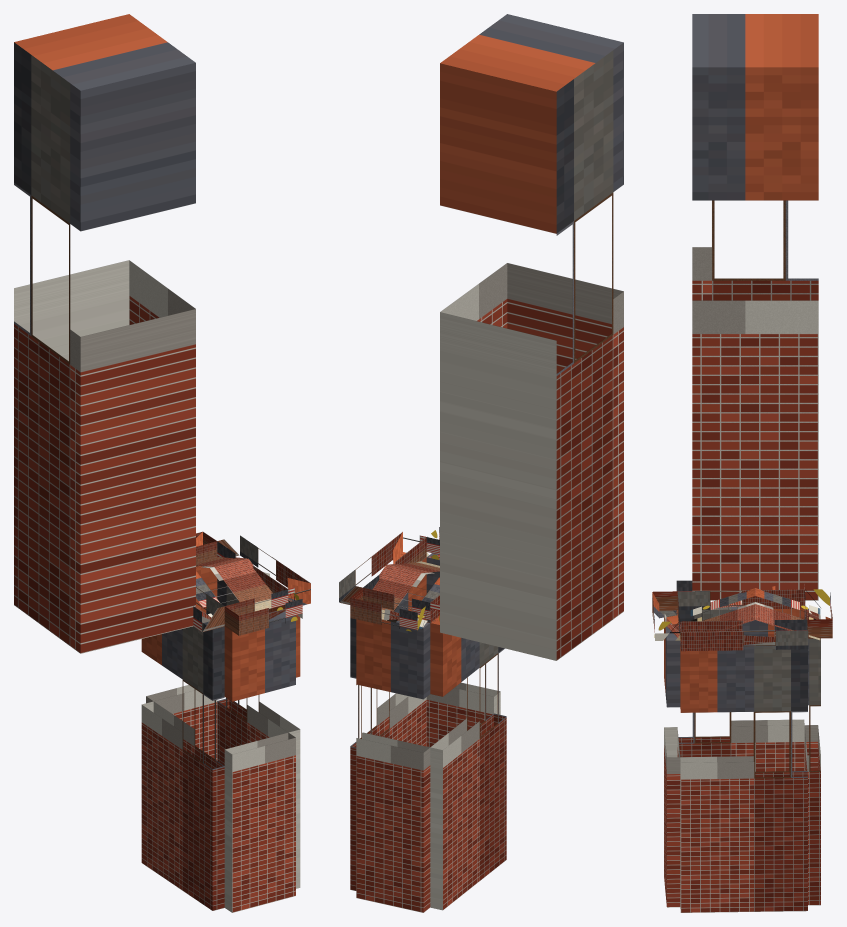
3 renders of one model, left to right at view 1: azimuth 30°, elevation 25°; view 2: azimuth 150°, elevation 25°; view 3: azimuth 270°, elevation 25°, orthographic. The views are drawn at different scales.
Visible parts, largest first — view 1: 1107168850__chimney_0_xb, 1107168850__wall_2_xb, 1107168850__wall_1_xb, 1107168850__wall_0_xb, 1107168850__wall_3_xb, 1107168850_roof_-1_xb, 1107168850__cornice_1, 1107168850__cornice_0, 1107168850__cornice_2; view 2: 1107168850__chimney_0_xb, 1107168850__wall_3_xb, 1107168850__wall_2_xb, 1107168850__wall_0_xb, 1107168850__wall_1_xb, 1107168850__cornice_3, 1107168850__cornice_0, 1107168850_roof_1_xb; view 3: 1107168850__chimney_0_xb, 1107168850__wall_0_xb, 1107168850__wall_2_xb, 1107168850__wall_1_xb, 1107168850__wall_3_xb, 1107168850__cornice_0, 1107168850__cornice_2, 1107168850_roof_-1_xb, 1107168850_roof_1_xb, 1107168850__cornice_1, 1107168850__cornice_3.
Boxes of the visible parts, left/top/right/bottom form: 1107168850__chimney_0_xb: left=14, top=14, right=195, bottom=653; 1107168850__wall_2_xb: left=141, top=607, right=224, bottom=910; 1107168850__wall_1_xb: left=224, top=611, right=295, bottom=912; 1107168850__wall_0_xb: left=217, top=579, right=300, bottom=888; 1107168850__wall_3_xb: left=146, top=566, right=217, bottom=760; 1107168850_roof_-1_xb: left=196, top=558, right=272, bottom=617; 1107168850__cornice_1: left=224, top=589, right=302, bottom=635; 1107168850__cornice_0: left=217, top=535, right=310, bottom=607; 1107168850__cornice_2: left=193, top=587, right=224, bottom=632; 1107168850__chimney_0_xb: left=440, top=14, right=623, bottom=660; 1107168850__wall_3_xb: left=356, top=619, right=430, bottom=912; 1107168850__wall_2_xb: left=430, top=615, right=506, bottom=910; 1107168850__wall_0_xb: left=350, top=557, right=426, bottom=890; 1107168850__wall_1_xb: left=426, top=553, right=500, bottom=747; 1107168850__cornice_3: left=350, top=587, right=430, bottom=631; 1107168850__cornice_0: left=339, top=532, right=426, bottom=604; 1107168850_roof_1_xb: left=372, top=565, right=439, bottom=628; 1107168850__chimney_0_xb: left=692, top=14, right=818, bottom=600; 1107168850__wall_0_xb: left=680, top=641, right=807, bottom=912; 1107168850__wall_2_xb: left=678, top=606, right=804, bottom=771; 1107168850__wall_1_xb: left=664, top=610, right=680, bottom=907; 1107168850__wall_3_xb: left=804, top=608, right=820, bottom=905; 1107168850__cornice_0: left=680, top=619, right=808, bottom=651; 1107168850__cornice_2: left=676, top=580, right=804, bottom=610; 1107168850_roof_-1_xb: left=690, top=588, right=755, bottom=631; 1107168850_roof_1_xb: left=755, top=588, right=820, bottom=640; 1107168850__cornice_1: left=652, top=591, right=680, bottom=640; 1107168850__cornice_3: left=804, top=589, right=832, bottom=638.
Bounding box in the file's own units: 0.292 × 1.05 × 0.2145.
Materials: 1 (1 with a texture image).
